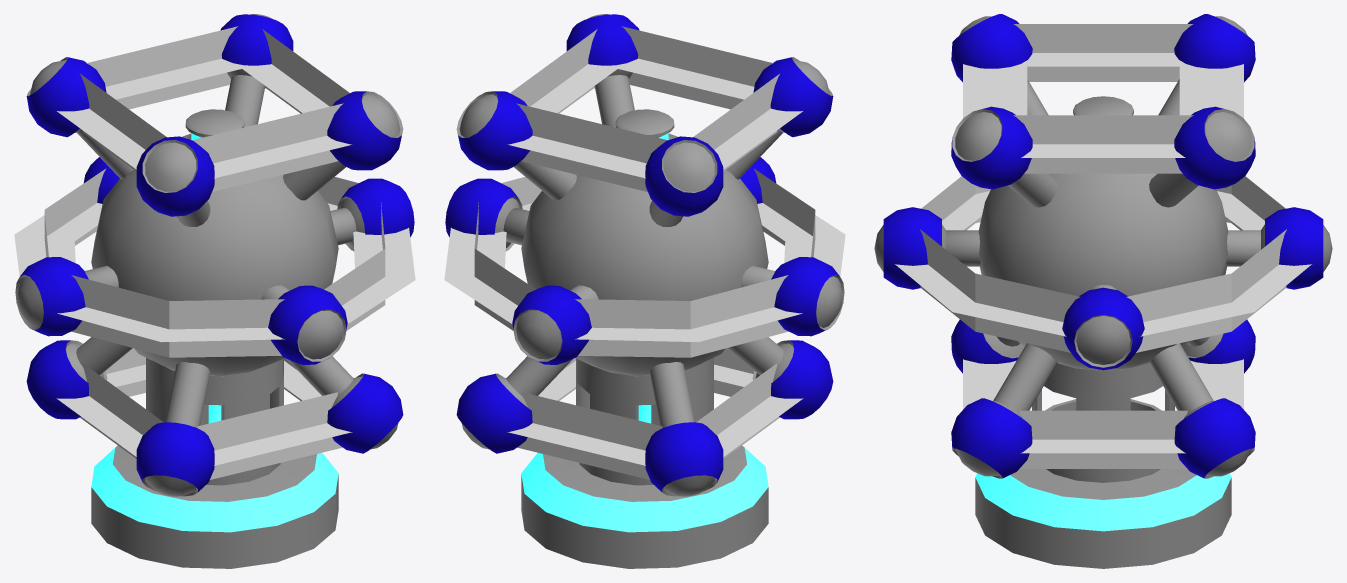
File: Reactor.fbx
The picture shows the model from 3 angles, left to right: view 1: azimuth 30°, elevation 25°; view 2: azimuth 150°, elevation 25°; view 3: azimuth 270°, elevation 25°; orthographic projection. The views are drawn at different scales.
Visible parts, largest first — view 1: Lightning Plane Outer, Energy Ball Outer, Main Reactor, Foot, Lightning Plane Middle, Energy Ball Middle, Energy Sticks Rim, Energy Stick Middle; view 2: Lightning Plane Outer, Energy Ball Outer, Main Reactor, Foot, Lightning Plane Middle, Energy Ball Middle, Energy Sticks Rim, Energy Stick Middle; view 3: Lightning Plane Outer, Energy Ball Outer, Foot, Main Reactor, Lightning Plane Middle, Energy Ball Middle, Energy Sticks Rim, Energy Stick Middle.
Part boxes in pixels (x1,y1,x2,y2): Lightning Plane Outer: (56, 26, 352, 479); Energy Ball Outer: (26, 14, 403, 496); Main Reactor: (91, 109, 338, 423); Foot: (91, 357, 338, 568); Lightning Plane Middle: (14, 168, 415, 357); Energy Ball Middle: (15, 157, 414, 364); Energy Sticks Rim: (76, 75, 353, 427); Energy Stick Middle: (84, 208, 356, 299); Lightning Plane Outer: (507, 26, 803, 479); Energy Ball Outer: (456, 14, 833, 496); Main Reactor: (521, 109, 768, 423); Foot: (521, 357, 768, 568); Lightning Plane Middle: (444, 168, 845, 357); Energy Ball Middle: (445, 157, 844, 364); Energy Sticks Rim: (506, 75, 783, 427); Energy Stick Middle: (503, 208, 775, 299); Lightning Plane Outer: (963, 24, 1243, 468); Energy Ball Outer: (951, 14, 1255, 478); Foot: (975, 363, 1231, 568); Main Reactor: (978, 96, 1228, 370); Lightning Plane Middle: (895, 176, 1311, 352); Energy Ball Middle: (874, 207, 1332, 370); Energy Sticks Rim: (993, 79, 1213, 413); Energy Stick Middle: (946, 230, 1260, 289).
Size of the model in its own units: 2.86 by 3.11 by 2.86.
